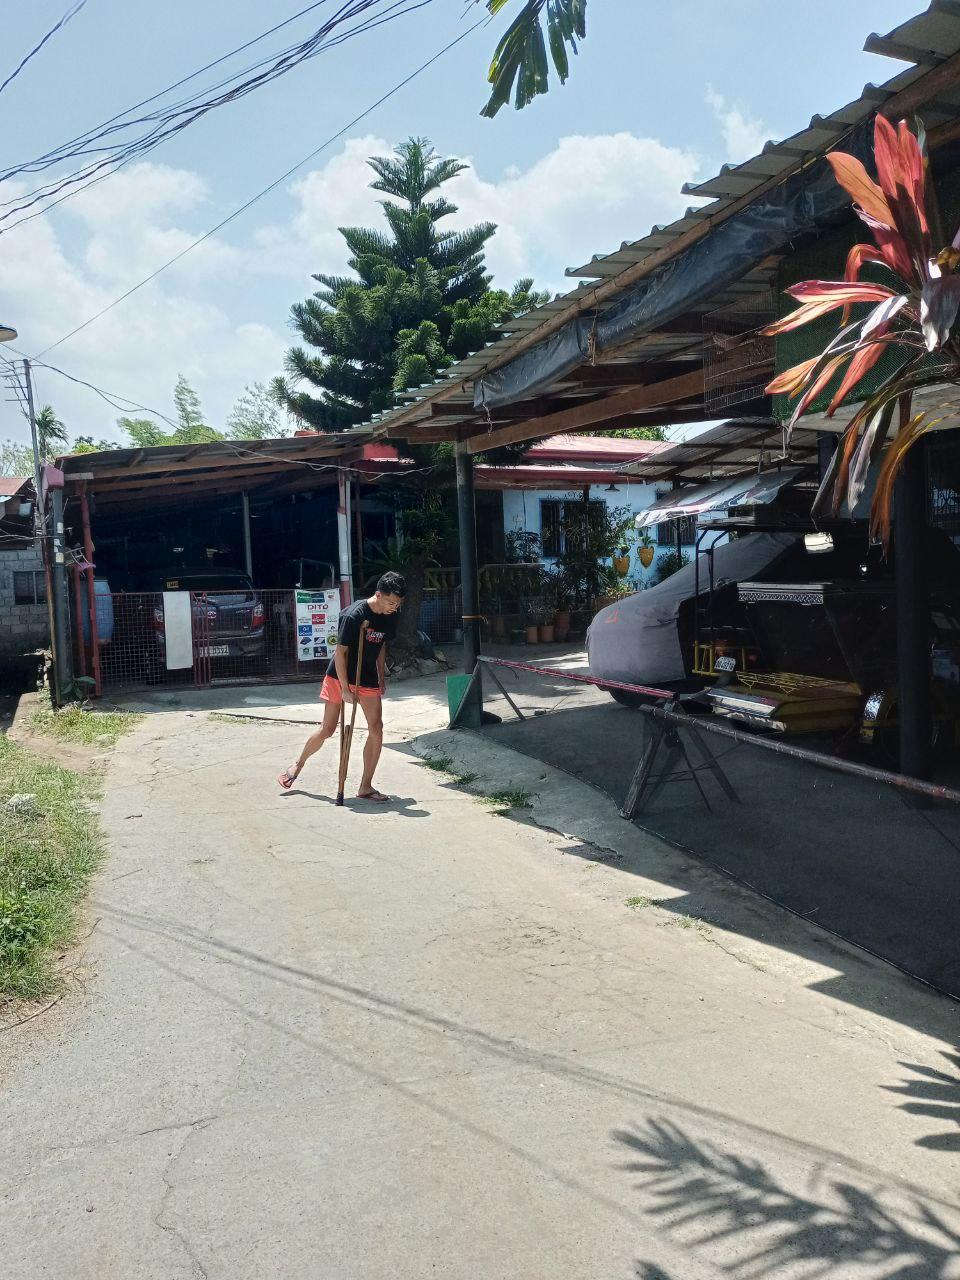crutches: (275, 568, 415, 812)
